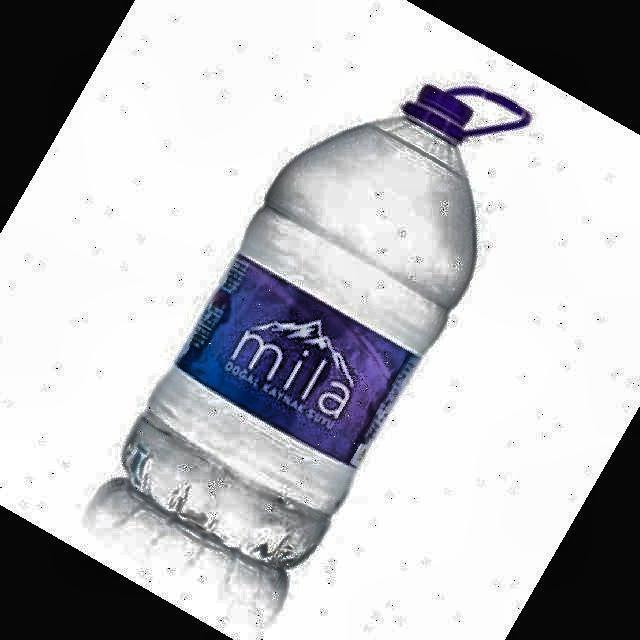plastic: (124, 85, 529, 568)
